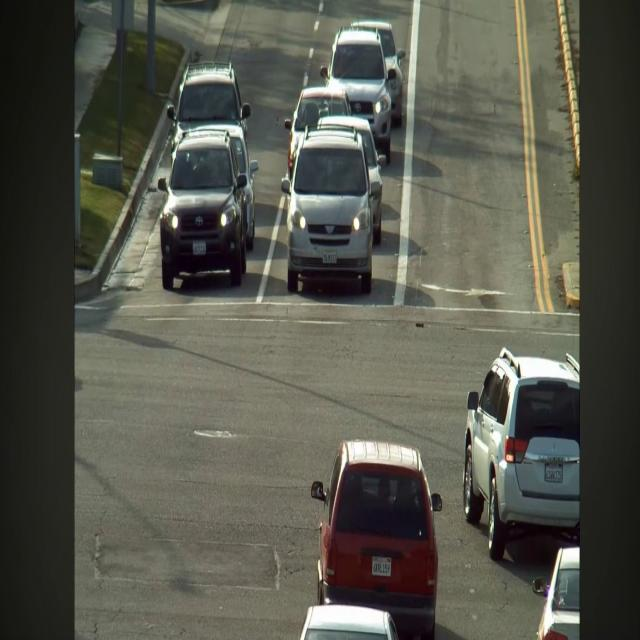car: (311, 440, 441, 639), (463, 347, 580, 560), (281, 128, 375, 294), (158, 129, 247, 290), (320, 27, 396, 163), (318, 116, 385, 245), (167, 61, 251, 148), (207, 124, 258, 251), (284, 87, 350, 177), (351, 20, 405, 126), (532, 547, 579, 639), (300, 605, 398, 639)
